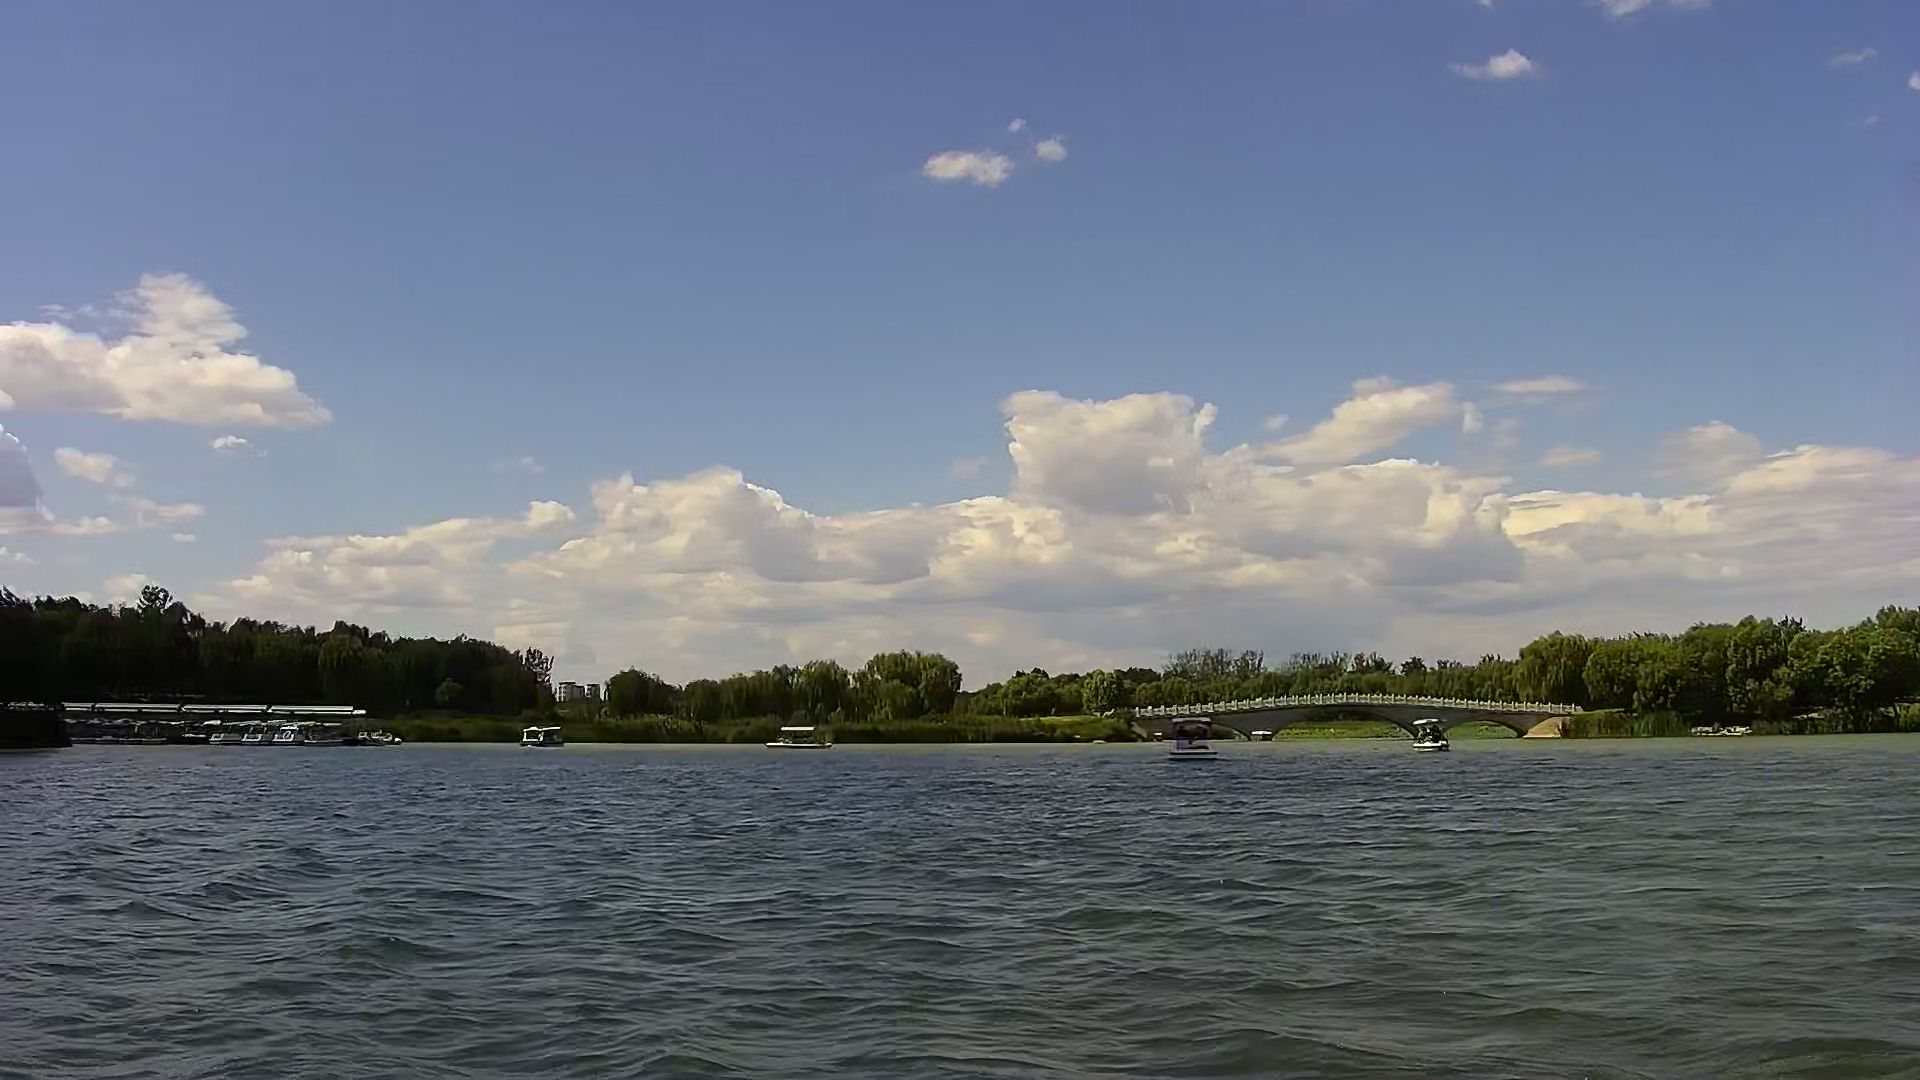boat: (1159, 712, 1232, 764), (757, 723, 843, 754), (1404, 713, 1462, 760), (273, 713, 342, 750), (239, 709, 280, 754), (525, 712, 568, 752)
bridge: (1145, 686, 1578, 738)
